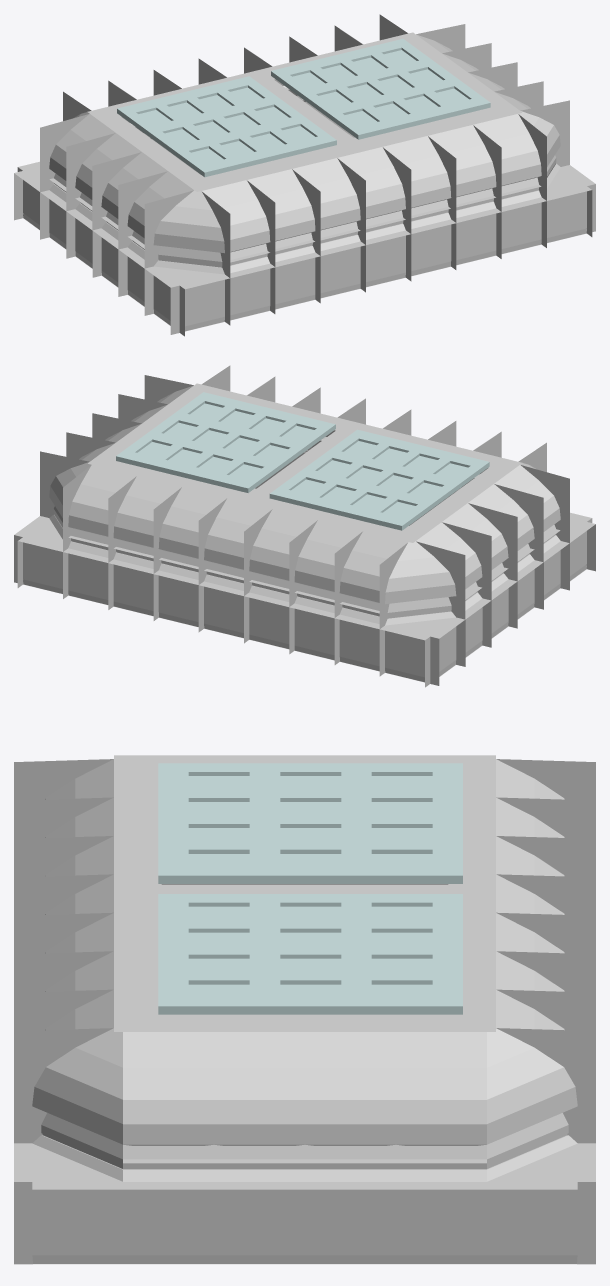
The model's file is room.fbx.
3 renders of one model, top to bottom at view 1: azimuth 30°, elevation 25°; view 2: azimuth 150°, elevation 25°; view 3: azimuth 270°, elevation 25°, orthographic. The views are drawn at different scales.
Visible parts, largest first — view 1: HIGHERWALL.011, HIGHERWALL.008, HIGHERWALL.007, HIGHERWALL.021, HIGHERWALL.025, HIGHERWALL.010, HIGHERWALL.013, HIGHERWALL.015, HIGHERWALL.012, HIGHERWALL.014, HIGHERWALL.016, HIGHERWALL.020 (+19 smaller); view 2: HIGHERWALL.010, HIGHERWALL.007, HIGHERWALL.003, HIGHERWALL.025, HIGHERWALL.021, HIGHERWALL.011, HIGHERWALL.002, HIGHERWALL.006, HIGHERWALL.004, HIGHERWALL.017, HIGHERWALL.001, HIGHERWALL.005 (+20 smaller); view 3: HIGHERWALL.003, HIGHERWALL.008, HIGHERWALL.007, HIGHERWALL.025, HIGHERWALL.021, HIGHERWALL.009, HIGHERWALL.018, HIGHERWALL.024, HIGHERWALL.023, WALL.012, WALL.013, WALL.014 (+13 smaller).
Part boxes in pixels (x1,y1,x2,y2): HIGHERWALL.011: [118, 171, 275, 336]; HIGHERWALL.008: [473, 81, 595, 247]; HIGHERWALL.007: [87, 32, 521, 191]; HIGHERWALL.021: [117, 76, 336, 177]; HIGHERWALL.025: [271, 39, 490, 139]; HIGHERWALL.010: [14, 91, 115, 239]; HIGHERWALL.013: [292, 158, 365, 255]; HIGHERWALL.015: [382, 136, 456, 233]; HIGHERWALL.012: [247, 169, 320, 265]; HIGHERWALL.014: [428, 125, 496, 222]; HIGHERWALL.016: [337, 147, 411, 244]; HIGHERWALL.020: [92, 152, 167, 248]; HIGHERWALL.010: [339, 522, 489, 687]; HIGHERWALL.007: [88, 383, 522, 542]; HIGHERWALL.003: [14, 443, 136, 595]; HIGHERWALL.025: [116, 392, 335, 492]; HIGHERWALL.021: [269, 429, 489, 530]; HIGHERWALL.011: [493, 442, 595, 588]; HIGHERWALL.002: [289, 520, 362, 617]; HIGHERWALL.006: [153, 487, 227, 584]; HIGHERWALL.004: [244, 509, 317, 606]; HIGHERWALL.017: [108, 476, 181, 572]; HIGHERWALL.001: [442, 503, 517, 600]; HIGHERWALL.005: [198, 498, 271, 594]; HIGHERWALL.003: [396, 989, 595, 1264]; HIGHERWALL.008: [14, 990, 213, 1264]; HIGHERWALL.007: [114, 755, 495, 1031]; HIGHERWALL.025: [158, 894, 462, 1014]; HIGHERWALL.021: [158, 763, 462, 883]; HIGHERWALL.009: [214, 1032, 304, 1181]; HIGHERWALL.018: [305, 1032, 395, 1181]; HIGHERWALL.024: [188, 906, 432, 997]; HIGHERWALL.023: [188, 776, 432, 866]; WALL.012: [396, 1182, 486, 1264]; WALL.013: [305, 1182, 395, 1264]; WALL.014: [214, 1182, 304, 1264].
Size of the model in its own units: 9400 by 2511 by 6400.
